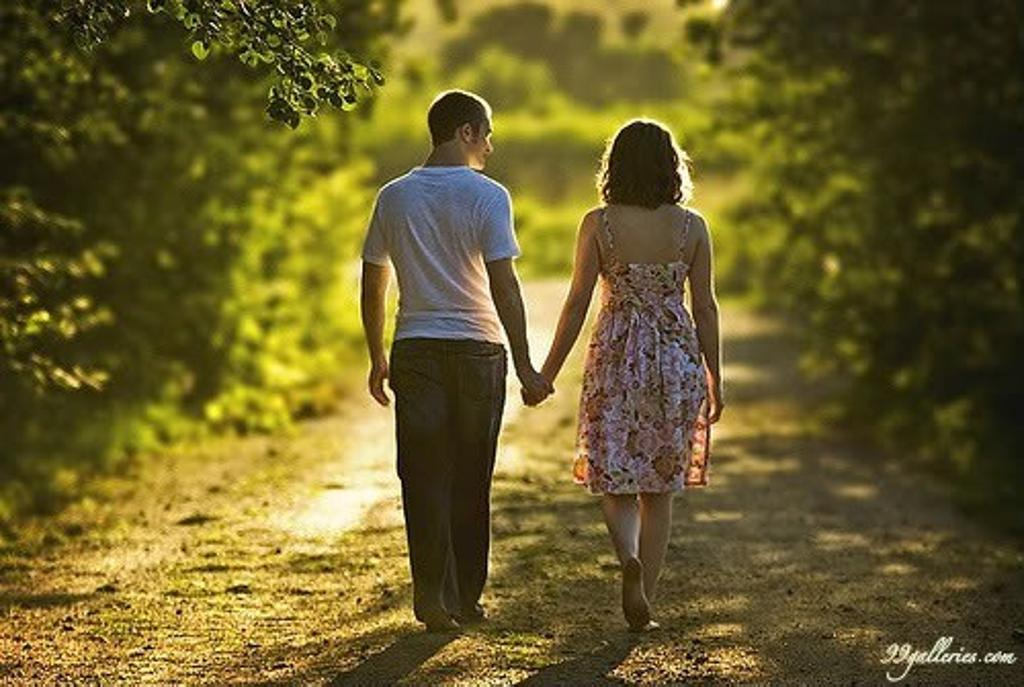face: (472, 107, 492, 169)
